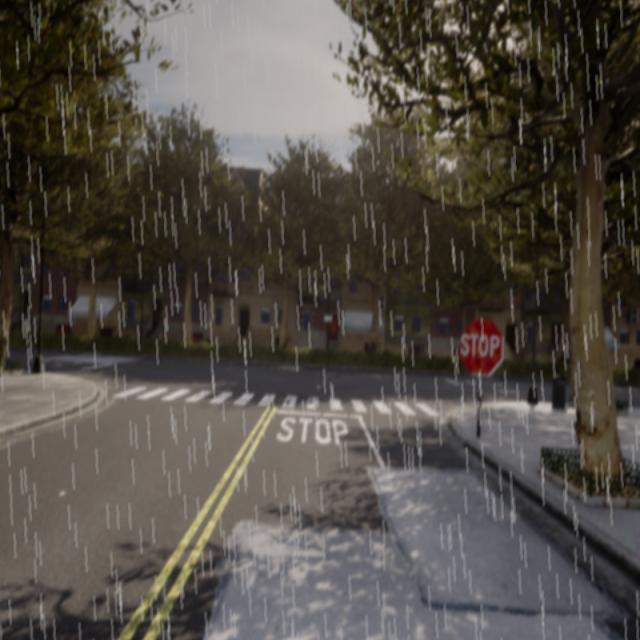stop sign: (456, 312, 506, 378)
